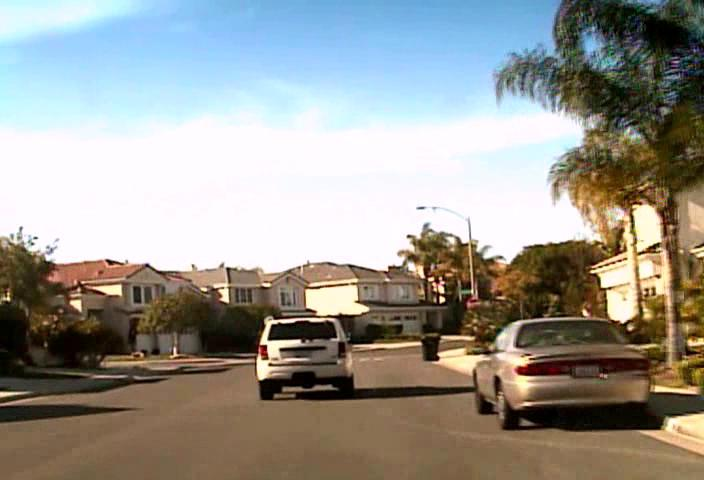stop: (466, 297, 481, 311)
